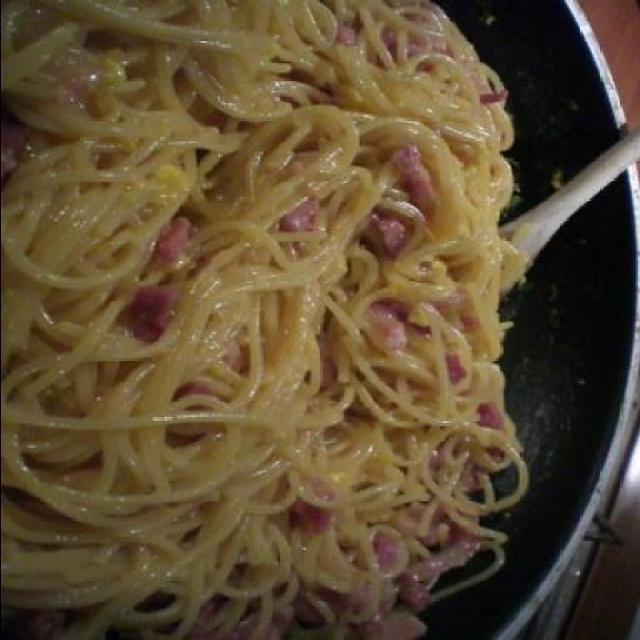Pasta with carbonara sauce: (4, 6, 567, 640)
